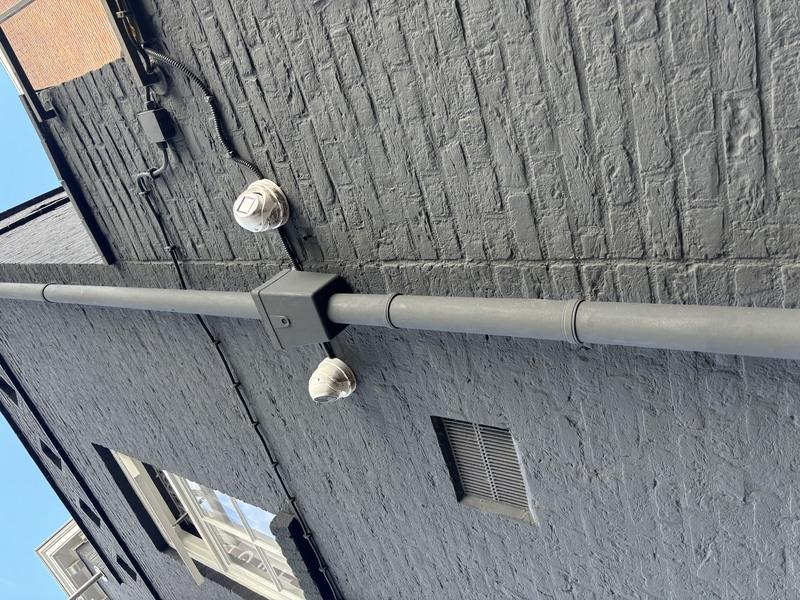turret: (185, 296, 246, 367), (359, 231, 424, 293)
